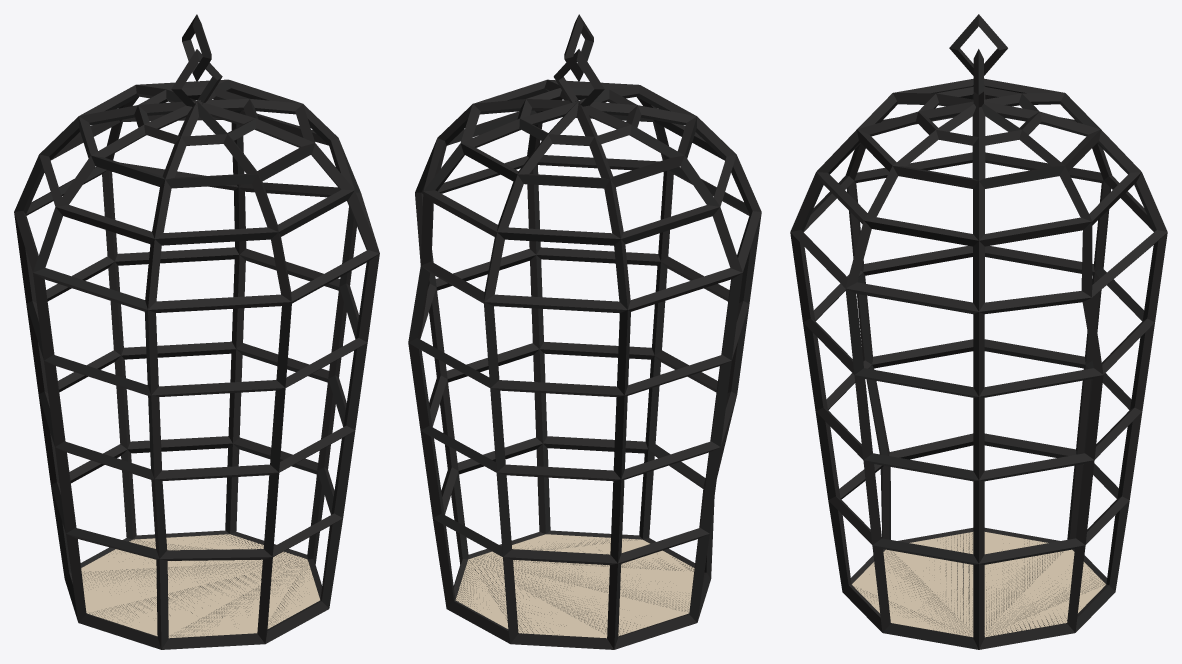
The model's file is cage.fbx.
3 renders of one model, left to right at view 1: azimuth 30°, elevation 25°; view 2: azimuth 150°, elevation 25°; view 3: azimuth 270°, elevation 25°, orthographic.
Visible parts, largest first — view 1: cage; view 2: cage; view 3: cage.
Boxes of the visible parts, bbox=[...] form: cage: bbox=[14, 14, 379, 649]; cage: bbox=[408, 14, 761, 649]; cage: bbox=[790, 14, 1167, 649].
Bounding box in the file's own units: 1.44 × 2.43 × 1.44.
